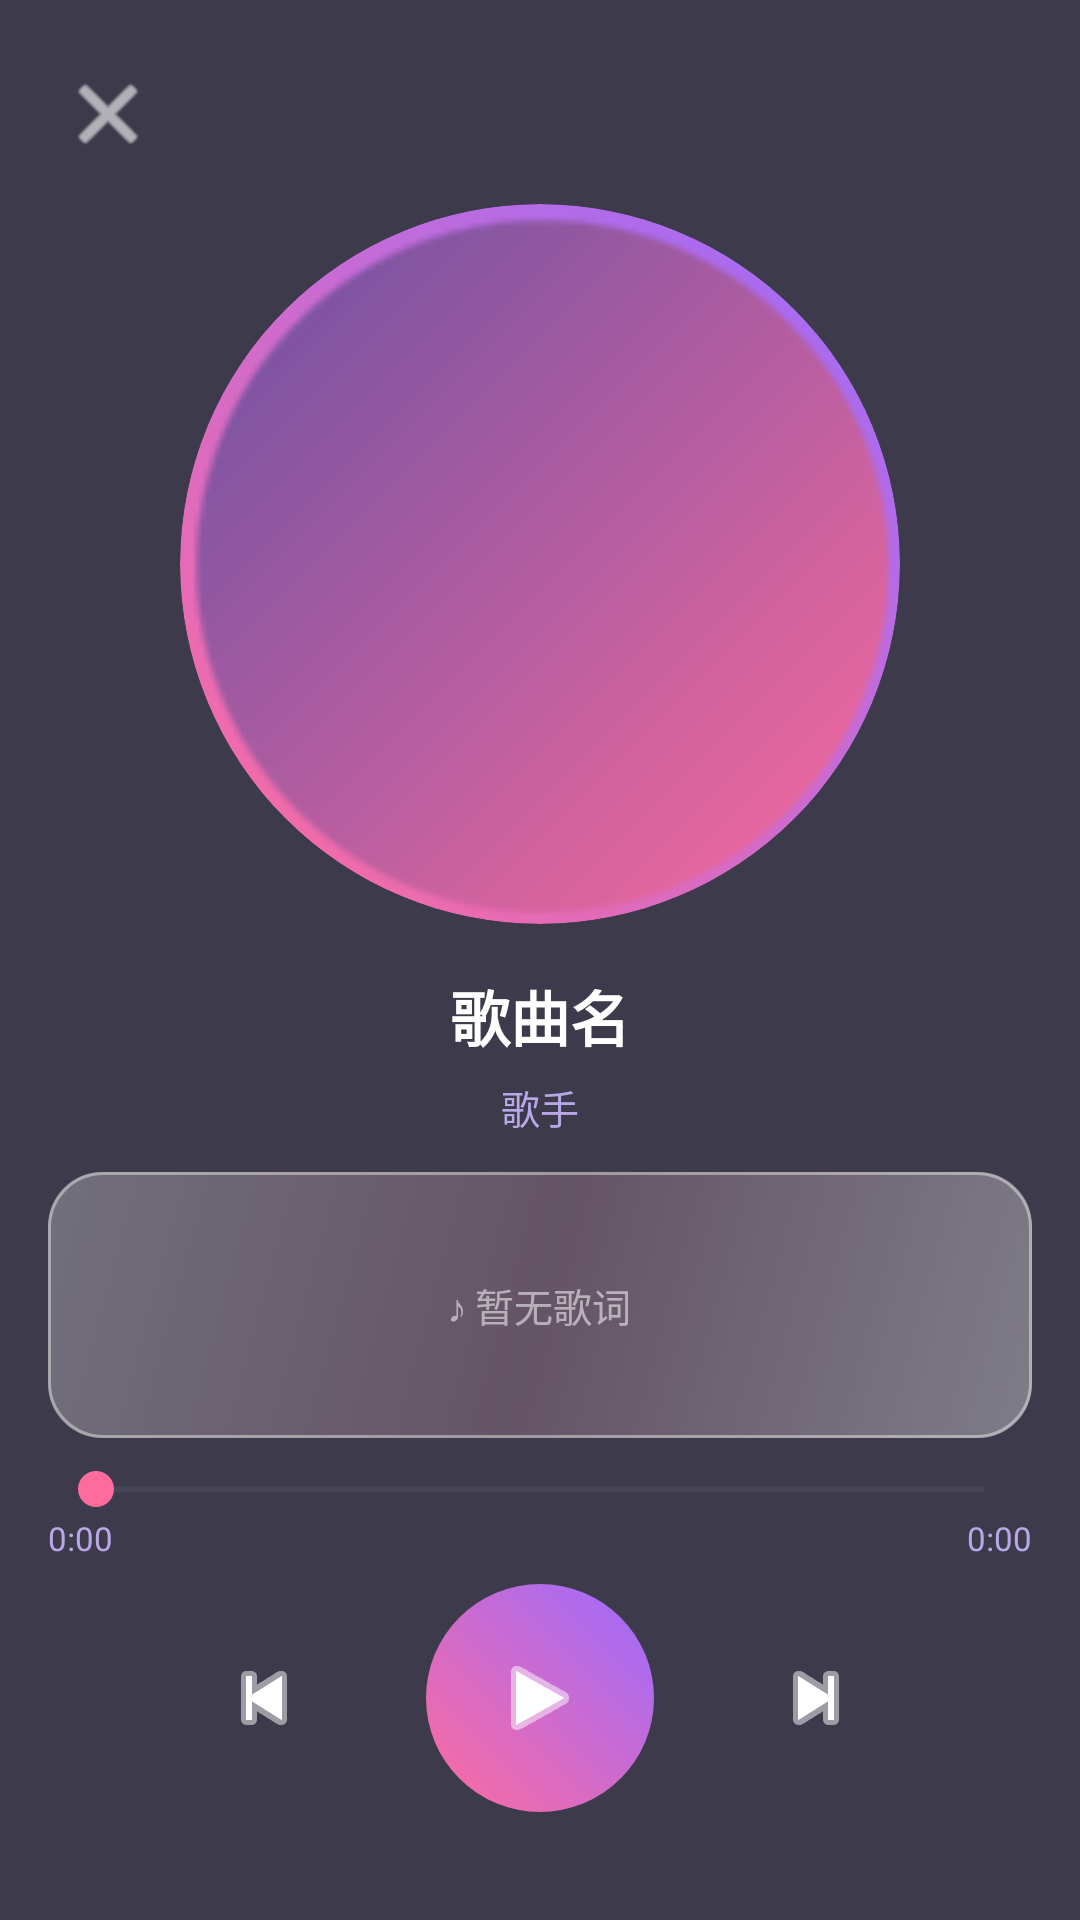

Named icons in this screenshot (1080×1920) and their centers, point (x, y):
close clear cancel: point (108, 114)
next: point (816, 1698)
play: point (540, 1698)
previous: point (264, 1698)
